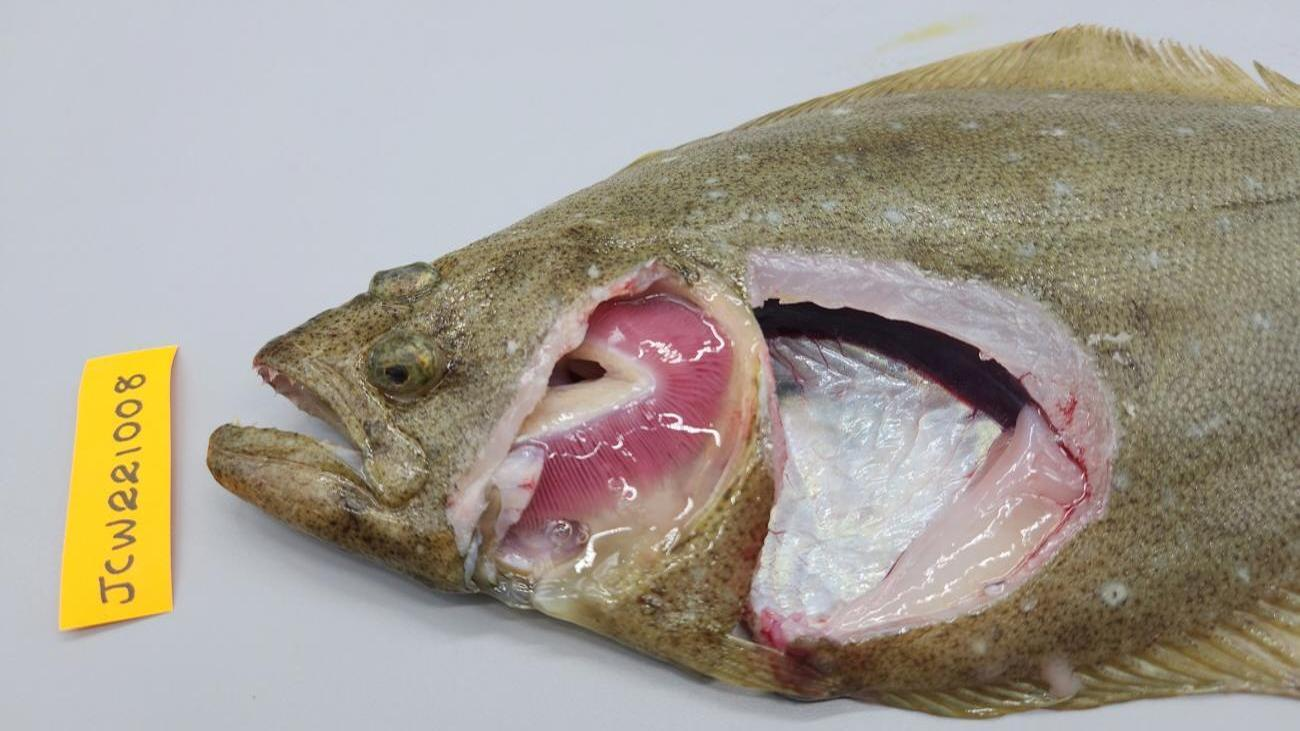POASN: (751, 338, 1007, 627)
POREN: (818, 404, 1086, 640)
